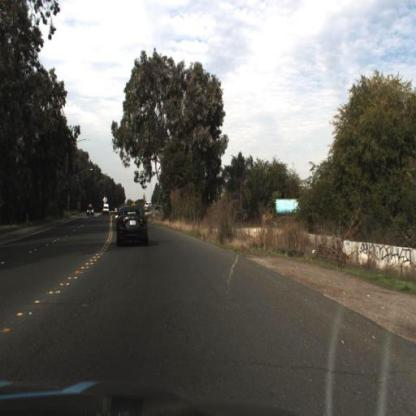car: (117, 205, 151, 249), (103, 204, 111, 216), (88, 207, 96, 217)
